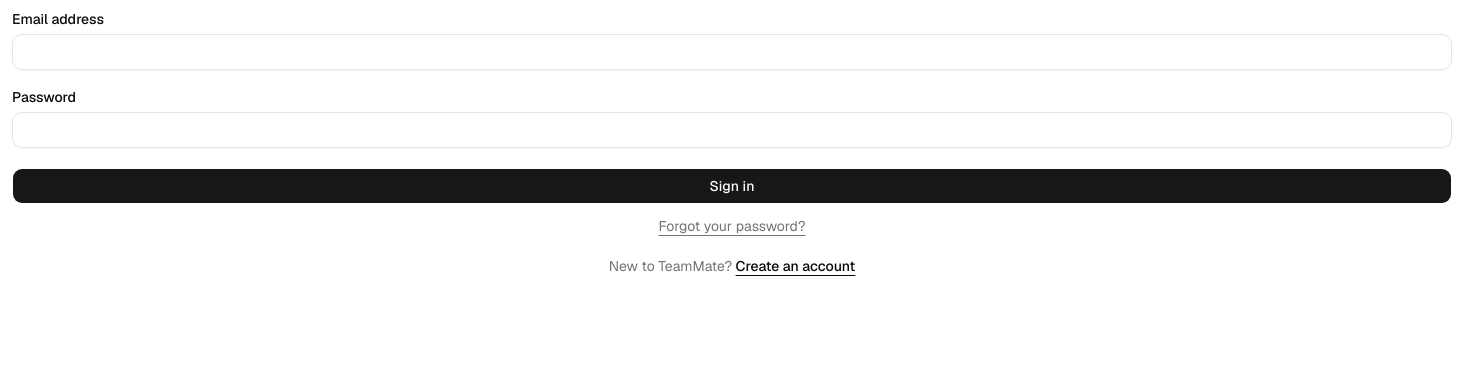
Scenario: sign-in UI › shows the safe verification-required state
The image size is (1464, 387).
Type "ada@example.com" into the field labelled "Email address" at [732, 52], box x1=12 y1=34 x2=1452 y2=70
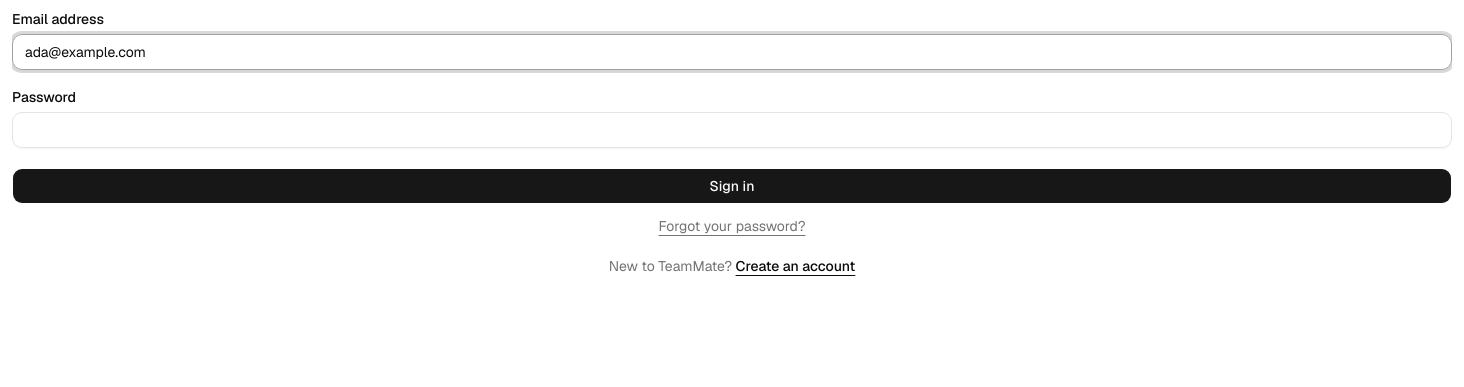
Type "correct-horse-42" into the password field labelled "Password" at [732, 130], box x1=12 y1=112 x2=1452 y2=148
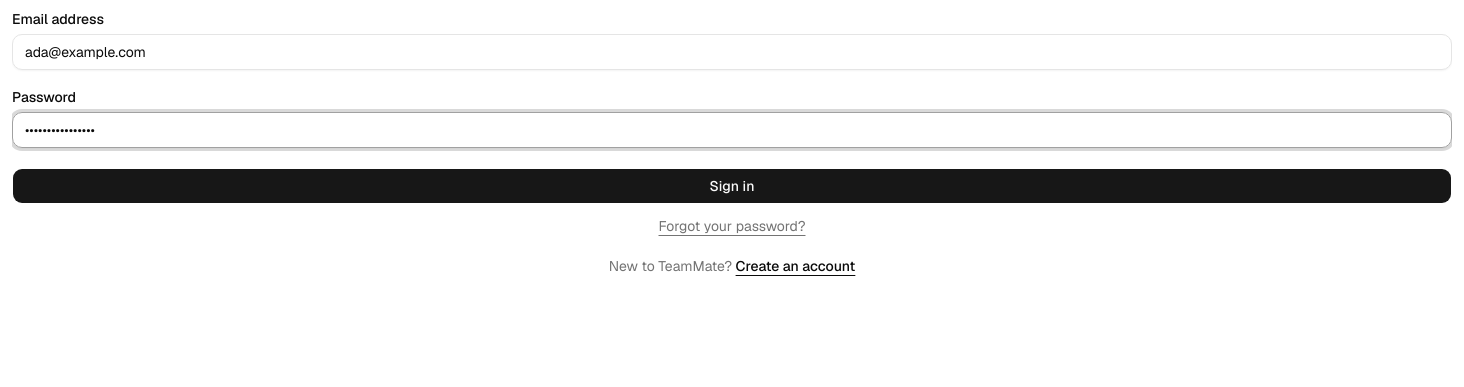
Click the button "Sign in" at [732, 186], box x1=12 y1=168 x2=1452 y2=204
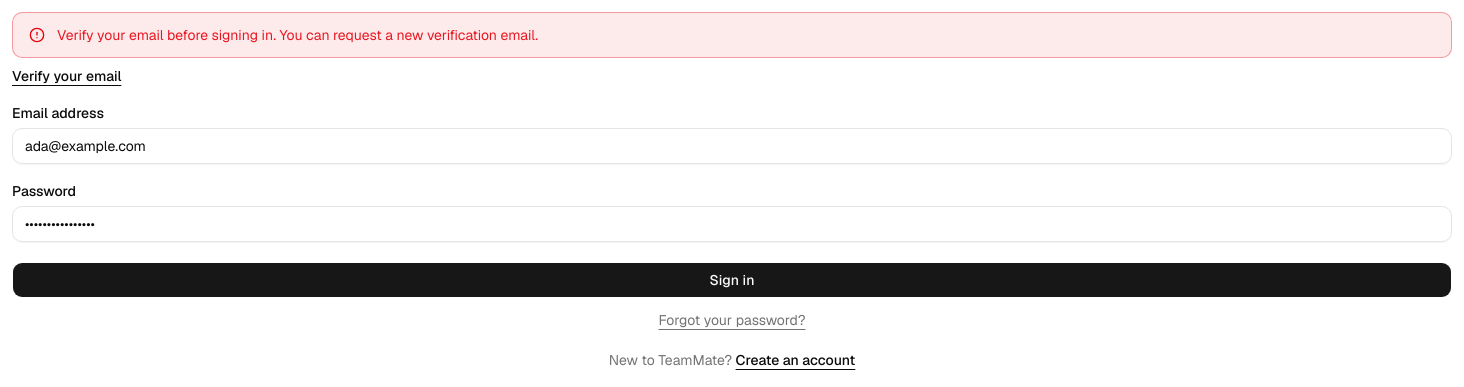
Now the text "Verify your email before signing in" is shown, box x1=57 y1=26 x2=538 y2=44
